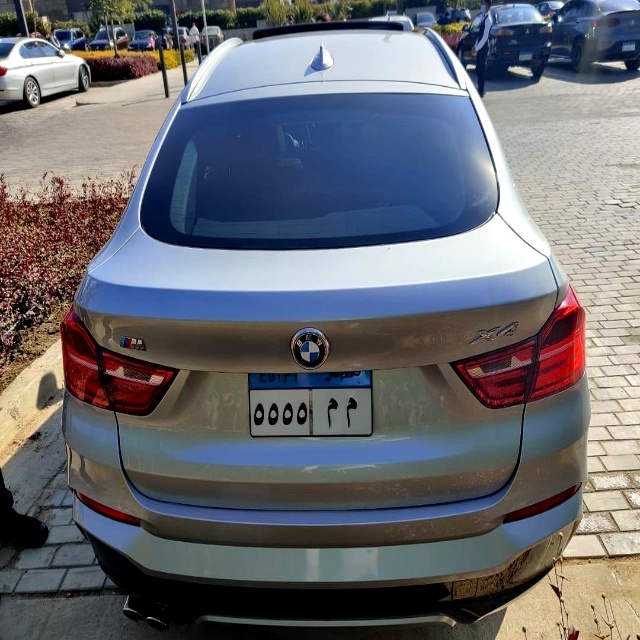License Plate: (248, 366, 373, 440)
